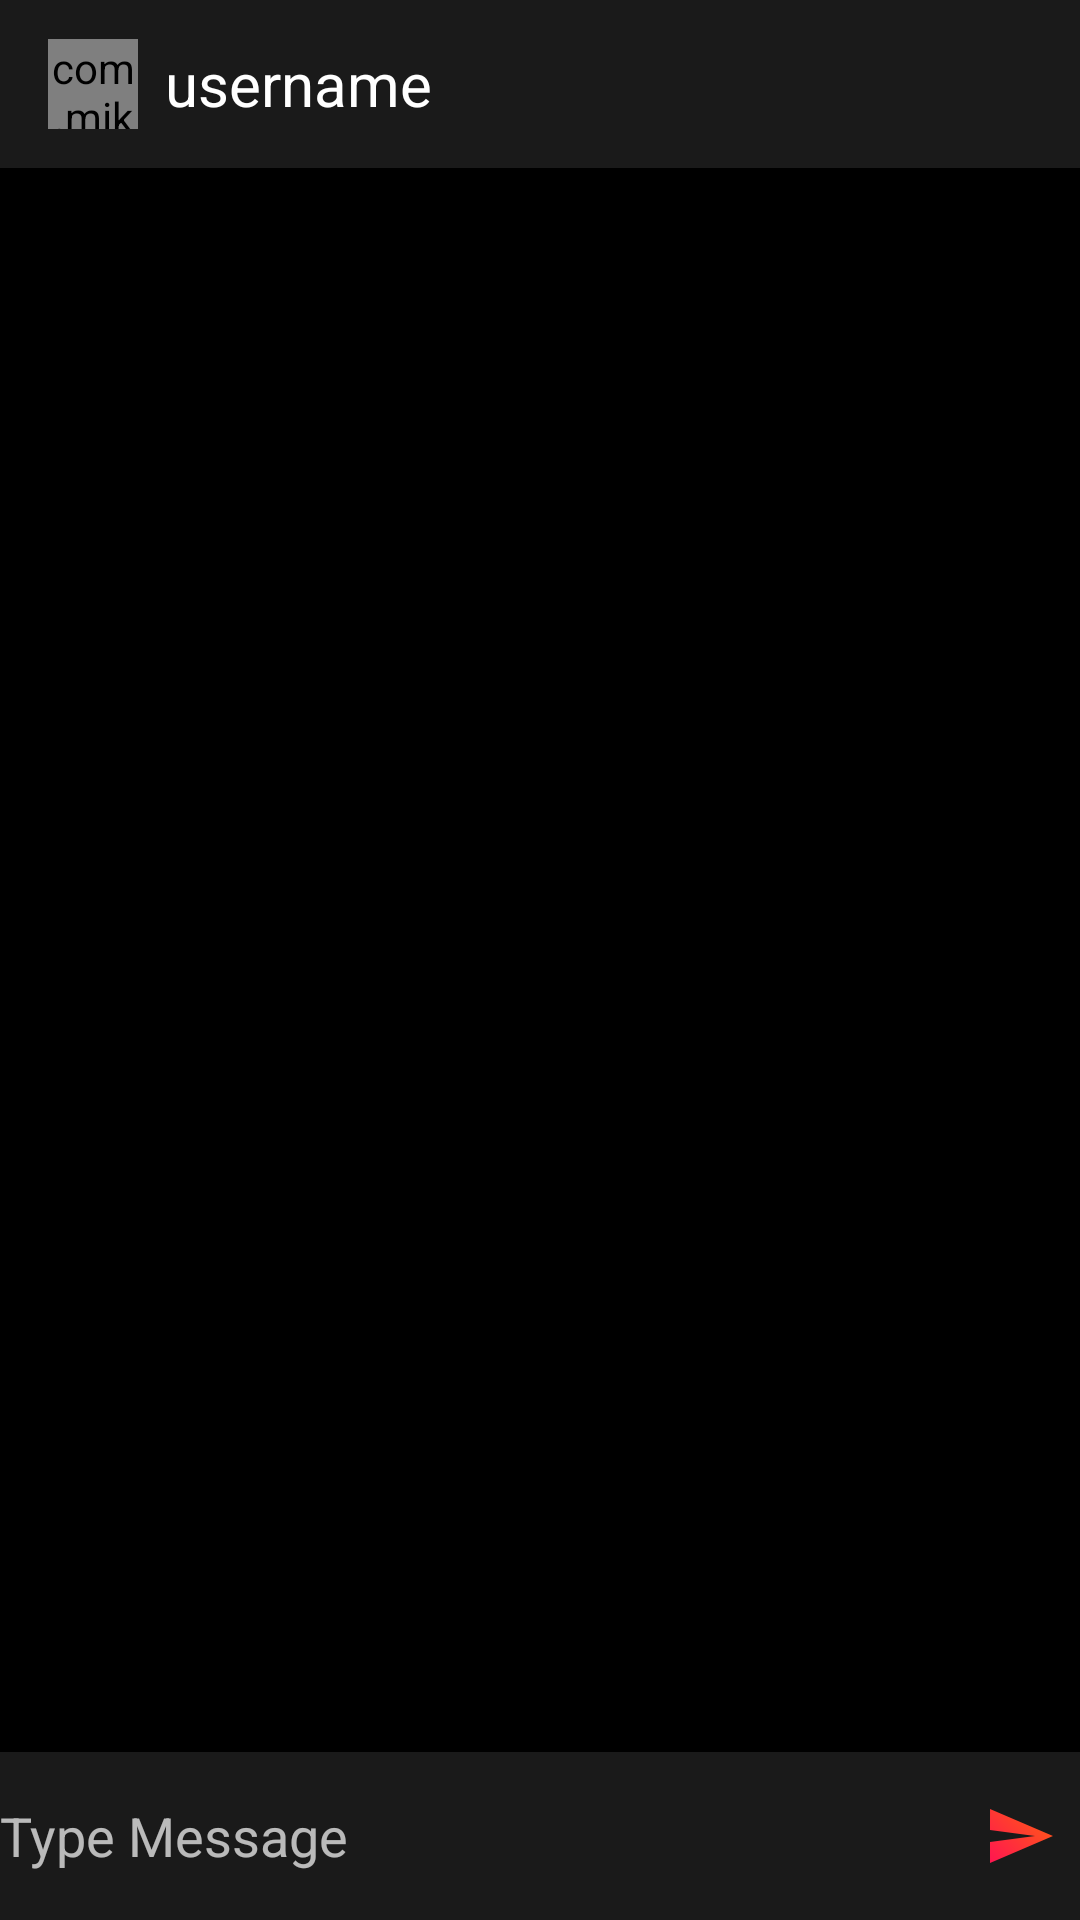

Screen size 1080×1920. Icon name, then its box in pixels as (x1, y1, x2, y2):
send msg: (990, 1809, 1053, 1863)
